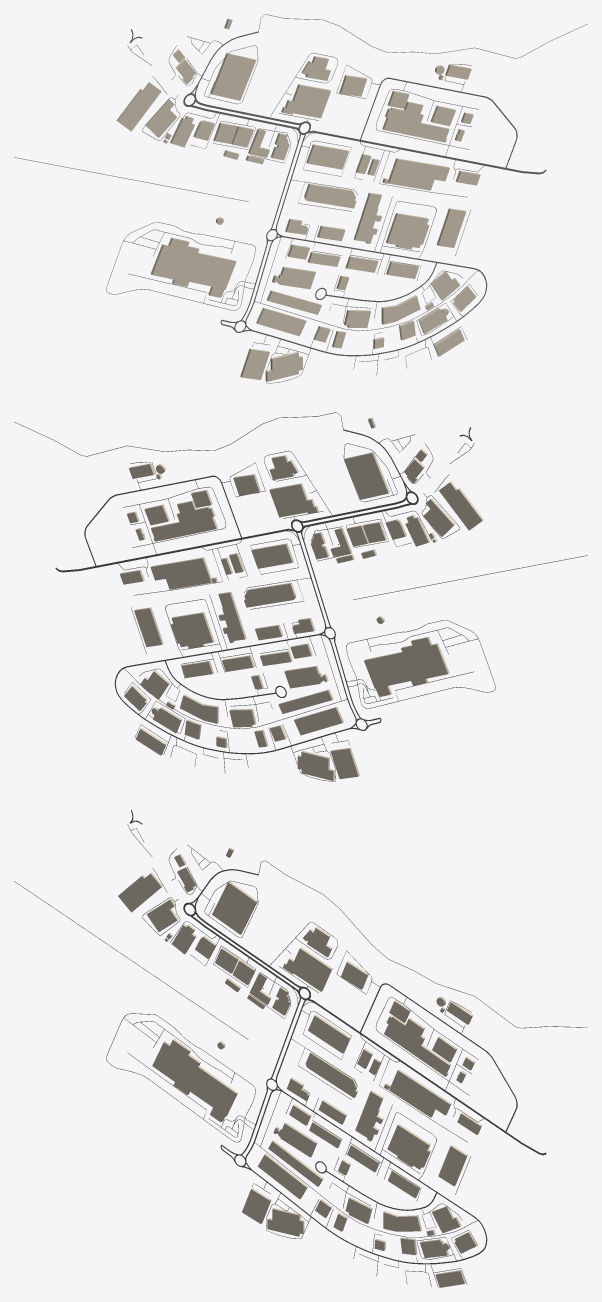
Rendered from historic-palestine-10_35_3519_3290.glb.
3 views of the same model, one above another, from view 1: azimuth 30°, elevation 25°; view 2: azimuth 150°, elevation 25°; view 3: azimuth 330°, elevation 25° (orthographic).
Visible parts, largest first — view 1: Building_.005, Building_.057, Building_.003, Building_.049, Building_.046, Building_.053, Building_.021, Building_.042, Road הרותם, Building_.045, Building_.061, Building_.024 (+9 smaller); view 2: Building_.005, Building_.057, Building_.003, Building_.049, Building_.046, Building_.053, Building_.021, Building_.042, Road הרותם, Building_.045, Building_.061, Building_.024 (+10 smaller); view 3: Building_.005, Building_.057, Building_.049, Building_.003, Building_.046, Building_.053, Building_.042, Building_.021, Road הרותם, Building_.061, Building_.045, Building_.048 (+7 smaller).
Part boxes in pixels (x1,y1,x2,y2): Building_.005: (150,237,236,289); Building_.057: (382,101,449,142); Building_.003: (210,53,256,100); Building_.049: (388,158,449,190); Building_.046: (386,213,429,249); Building_.053: (281,84,330,118); Building_.021: (116,82,161,131); Building_.042: (304,183,356,208); Road הרותם: (252,236,487,356); Building_.045: (354,192,381,243); Building_.061: (256,307,306,336); Building_.024: (265,351,302,381); Building_.005: (364,636,449,688); Building_.057: (151,500,217,541); Building_.003: (344,452,389,499); Building_.049: (150,557,211,589); Building_.046: (171,612,214,648); Building_.053: (269,483,318,517); Building_.021: (439,481,483,530); Building_.042: (244,582,296,607); Road הרותם: (114,634,349,754); Building_.045: (218,592,246,642); Building_.061: (294,707,343,735); Building_.024: (297,751,334,780); Building_.005: (152,1038,237,1116); Building_.057: (384,1015,450,1076); Building_.049: (389,1069,451,1117); Building_.003: (212,881,257,934); Building_.046: (387,1124,430,1169); Building_.053: (283,947,332,991); Building_.042: (305,1052,357,1097); Building_.021: (118,872,162,912); Road הרותם: (252,1092,487,1264); Building_.061: (257,1153,307,1199); Building_.045: (355,1090,383,1141); Building_.048: (308,1014,350,1053).
Size of the model in its own units: 1612 by 1092 by 8.7.
